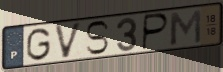3: (115, 16, 138, 53)
G: (25, 26, 53, 63)
M: (168, 8, 203, 47)
P: (140, 12, 171, 52)
S: (84, 20, 111, 57)
V: (53, 20, 84, 61)
